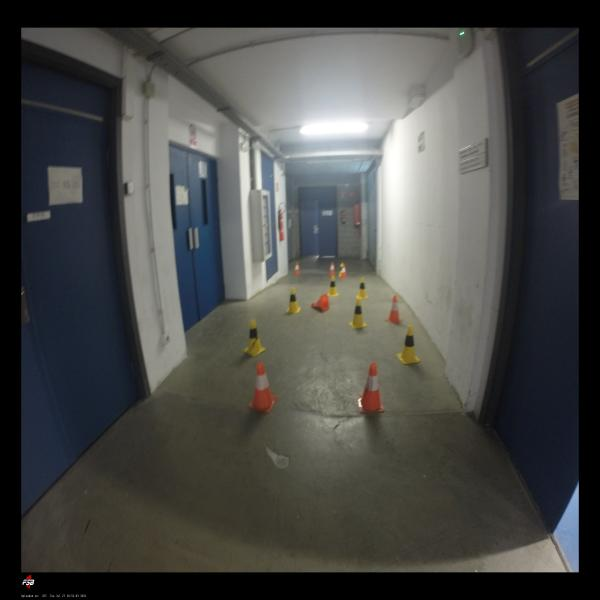orange_cone: (248, 361, 278, 413), (358, 362, 385, 413), (384, 295, 404, 324), (311, 294, 329, 312), (339, 263, 348, 278), (293, 262, 301, 275), (329, 262, 336, 275)
yellow_cone: (396, 325, 421, 364), (243, 319, 266, 356), (348, 297, 368, 329), (286, 287, 301, 313), (355, 278, 369, 300), (327, 275, 339, 296), (338, 263, 347, 278)
